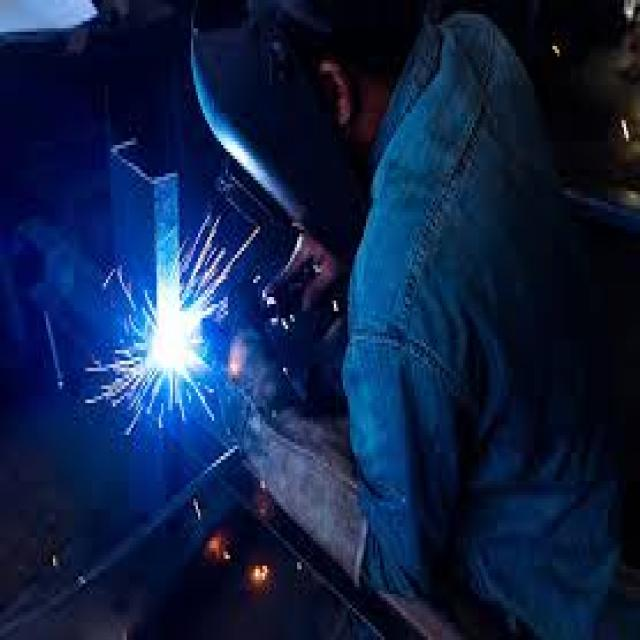welding: (151, 314, 199, 374)
